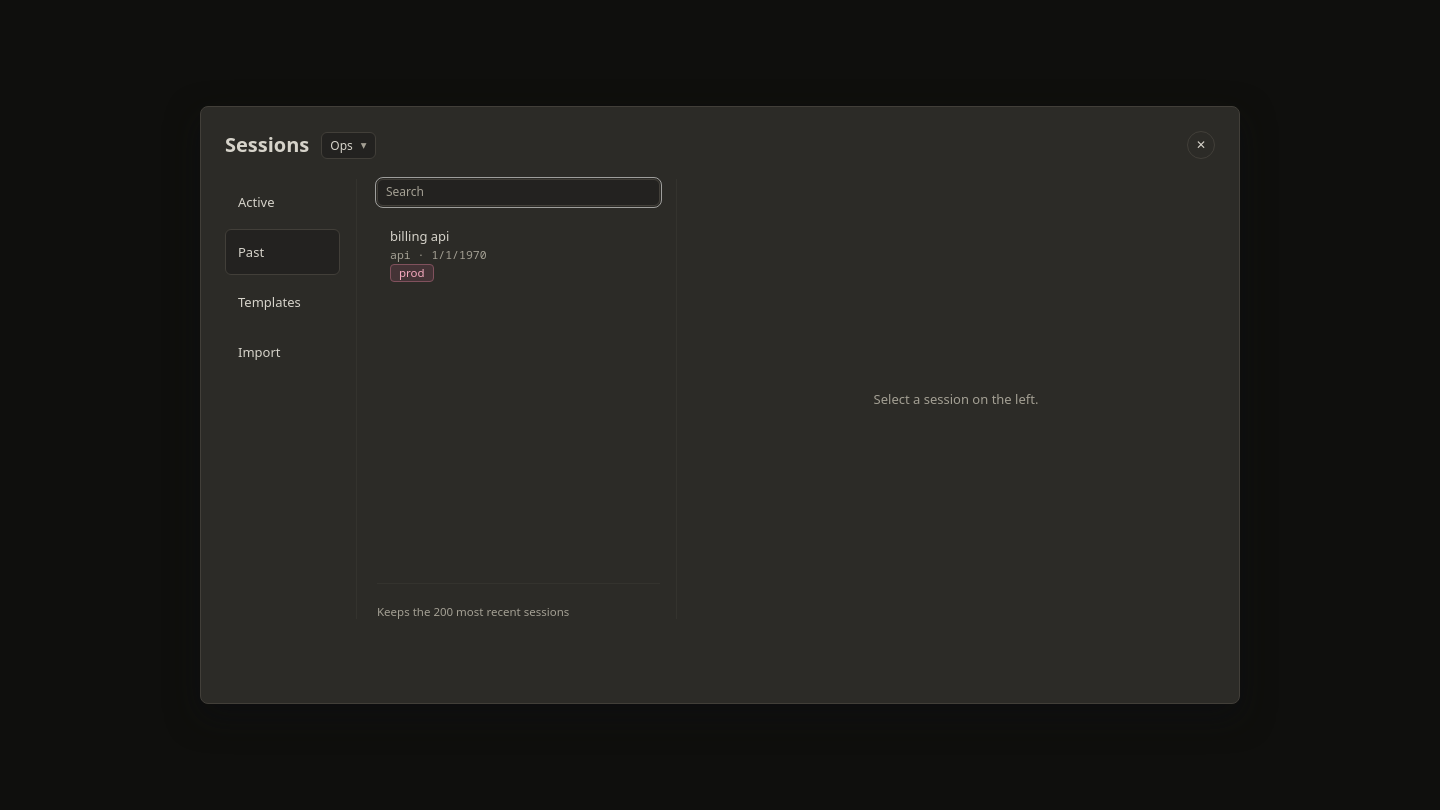
Test: PastSessionsDialog › a refused Open shows the code as copy on the ONE error line and keeps the dialog
This screenshot has width=1440, height=810.
Click the button with test id "past-session-select-sa".
click(420, 236)  # box [378,219,659,290]
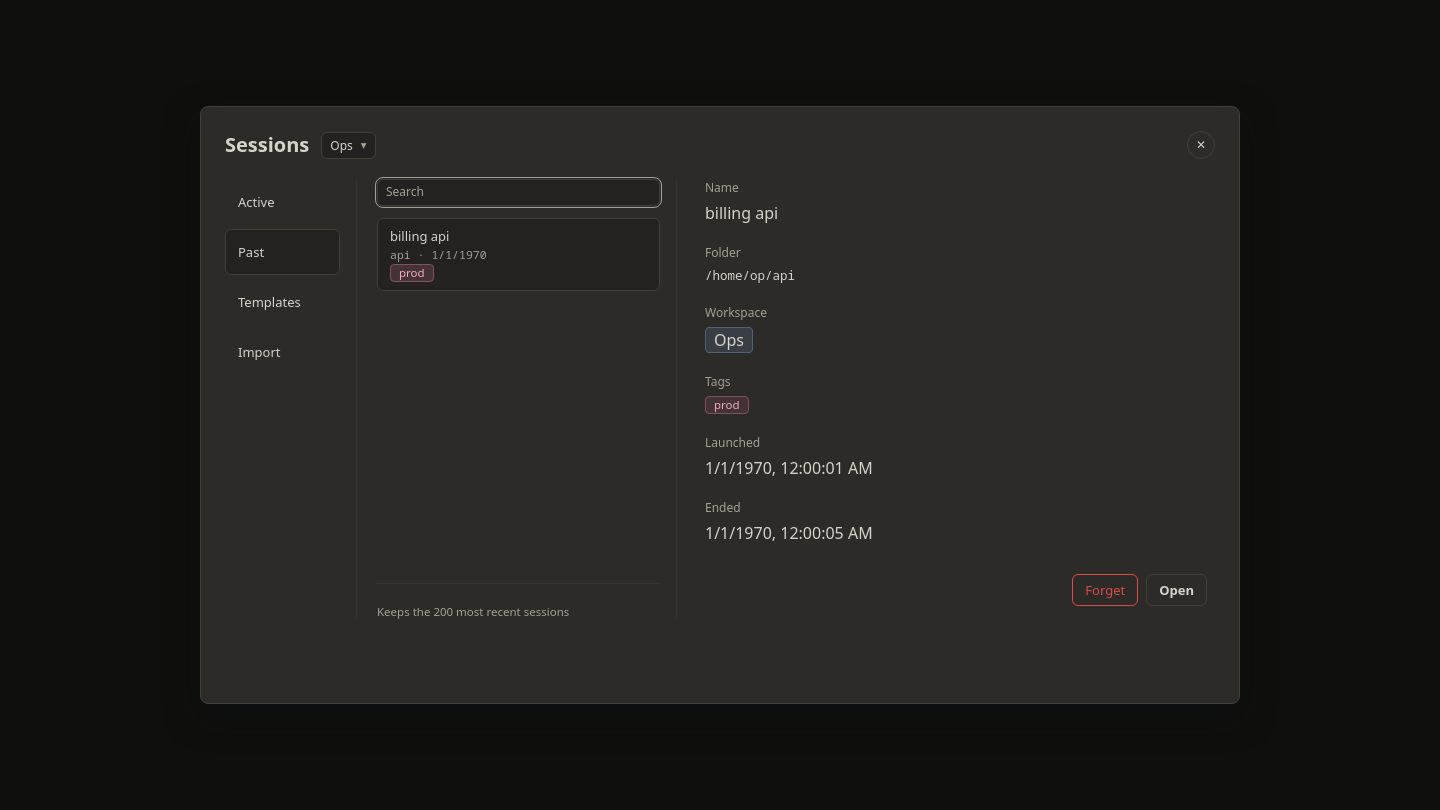
Click the button with test id "past-session-open".
click(1177, 590)  # box [1146,574,1207,606]
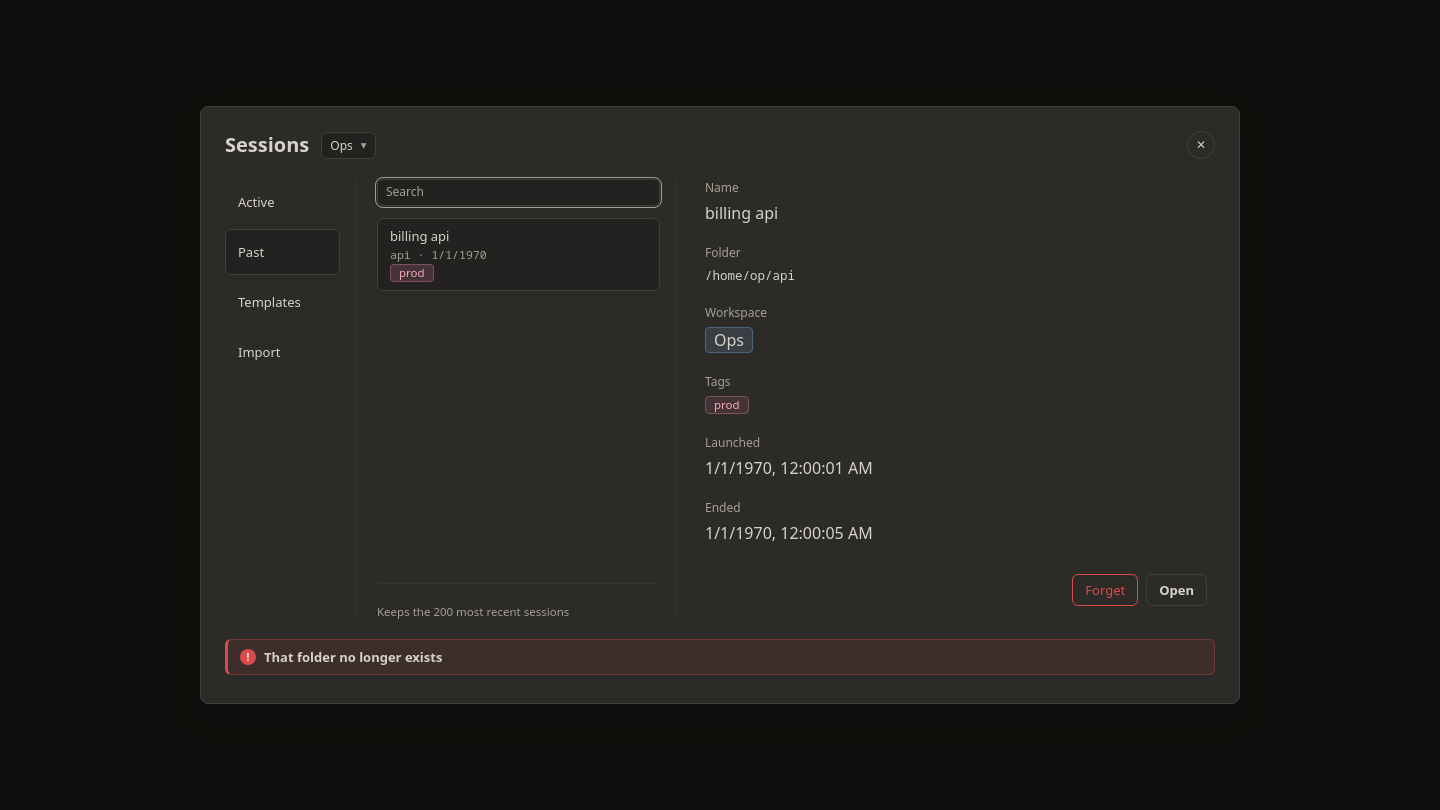
Now the button with test id "past-session-open" is enabled, box [1146,574,1207,606]
Now the message with test id "past-session-error" reads "That folder no longer exists", box [264,648,442,666]
